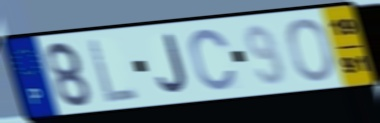8: (45, 40, 92, 109)
9: (244, 22, 287, 87)
C: (188, 26, 239, 93)
J: (155, 32, 190, 95)
L: (86, 36, 142, 106)
O: (285, 16, 337, 83)
